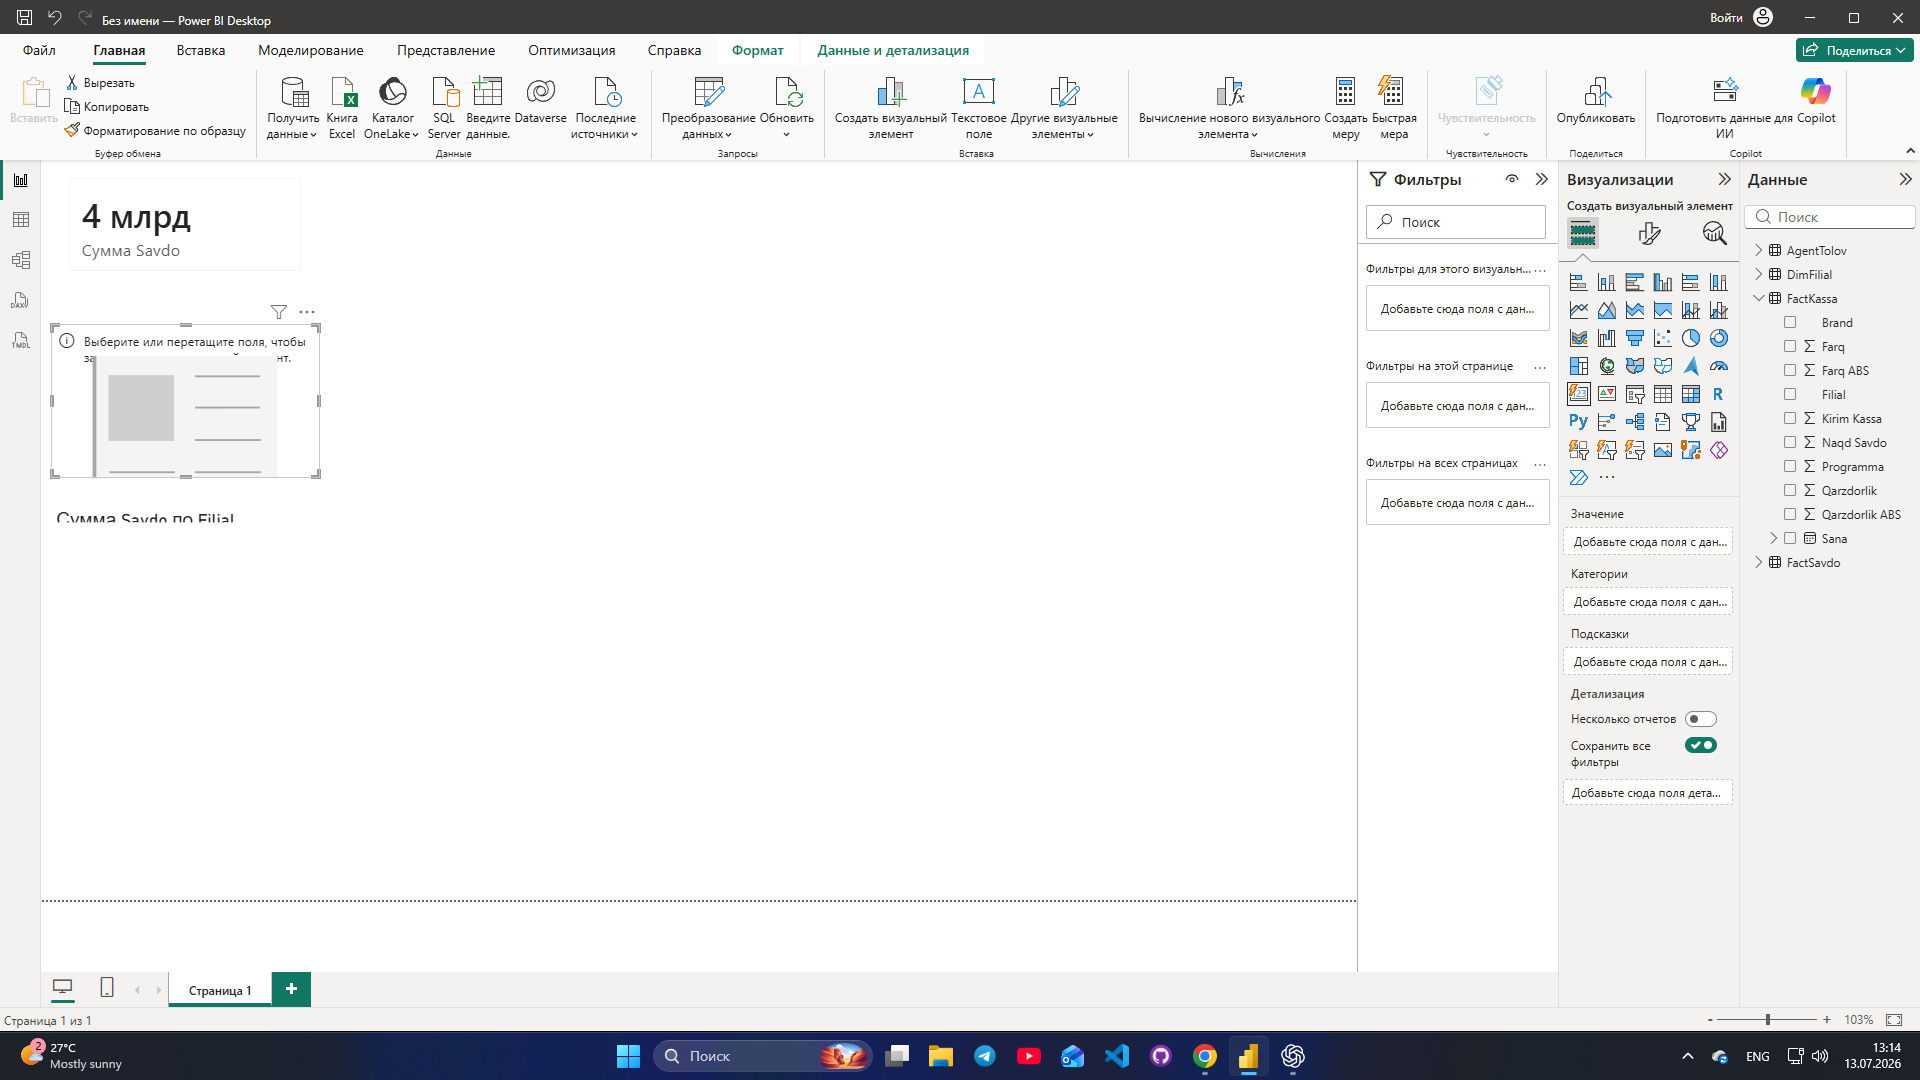

This screenshot's page, from the dashboard's own definition file:
{"tool":"powerbi","page":{"name":"Страница 1","canvas":[1280,720],"ordinal":0},"visuals":[{"type":"cardVisual","fields":{"Data":["Sum(FactSavdo.Savdo)"]},"box":[9.7,0,260.7,125.5],"z":0},{"type":"cardVisual","fields":{"Data":["Sum(FactKassa.Qarzdorlik)"]},"box":[10,159.5,261,150],"z":2},{"type":"clusteredColumnChart","fields":{"Category":["FactSavdo.Filial"],"Y":["Sum(FactSavdo.Savdo)"]},"box":[10,10,1157,150],"z":3}]}

Visuals, with their boxes on the page's 1280x720 design canvas (x1, y1, x2, y2). These are canvas units, not pixel positions in the 1920x1080 screenshot, which may show the page scaled, cropped or inside an application window:
cardVisual - Sum(FactSavdo.Savdo): detection(10, 0, 270, 126)
cardVisual - Sum(FactKassa.Qarzdorlik): detection(10, 160, 271, 310)
clusteredColumnChart - FactSavdo.Filial x Sum(FactSavdo.Savdo): detection(10, 10, 1167, 160)
